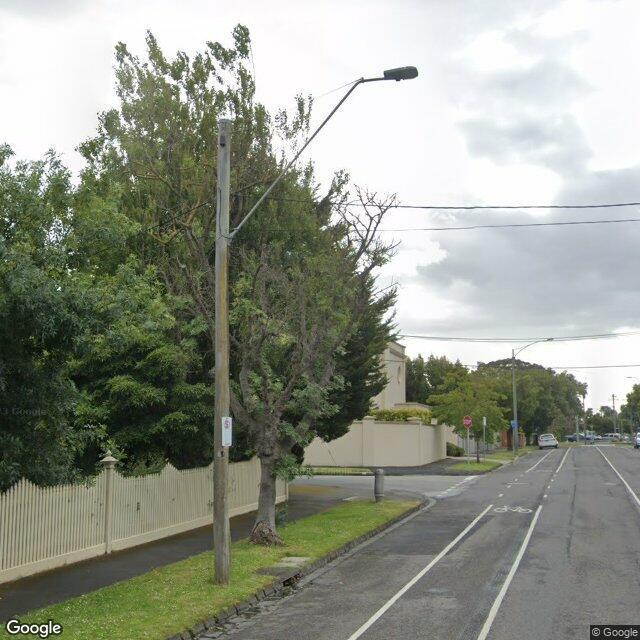crossarm: (609, 398, 619, 401)
streetlight: (229, 65, 419, 244), (514, 338, 554, 357), (626, 376, 636, 379)
timber-pole: (212, 118, 230, 584), (512, 348, 518, 454), (613, 394, 614, 410)
